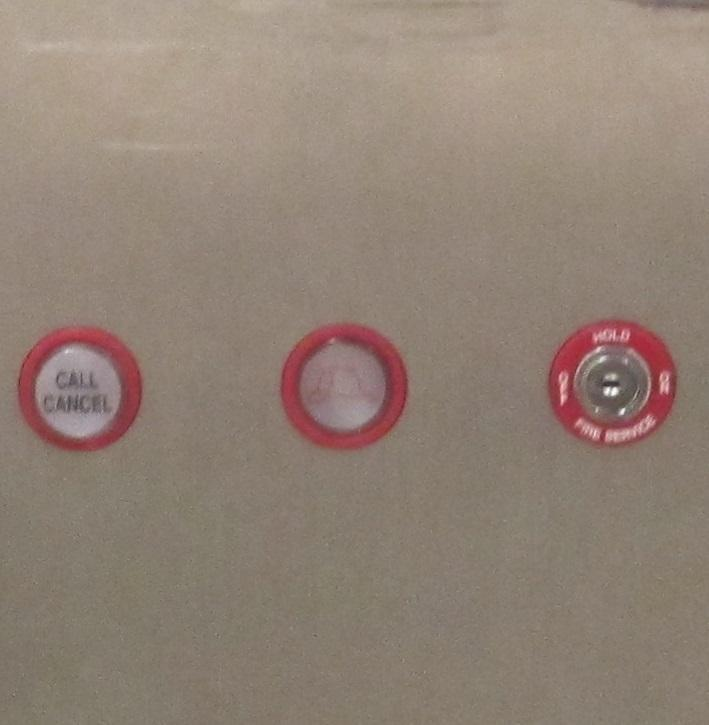call: (12, 323, 142, 454)
keyhole: (544, 317, 677, 447)
unknown: (275, 319, 409, 450)
